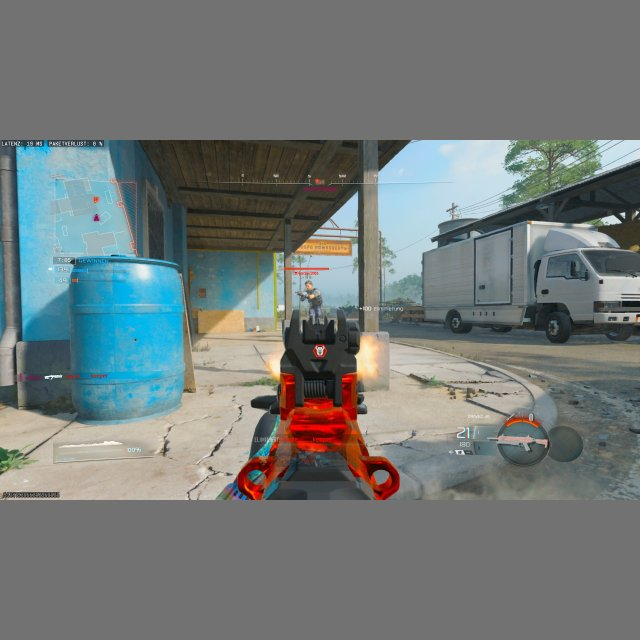head: (305, 281, 313, 291)
player: (298, 281, 323, 323)
